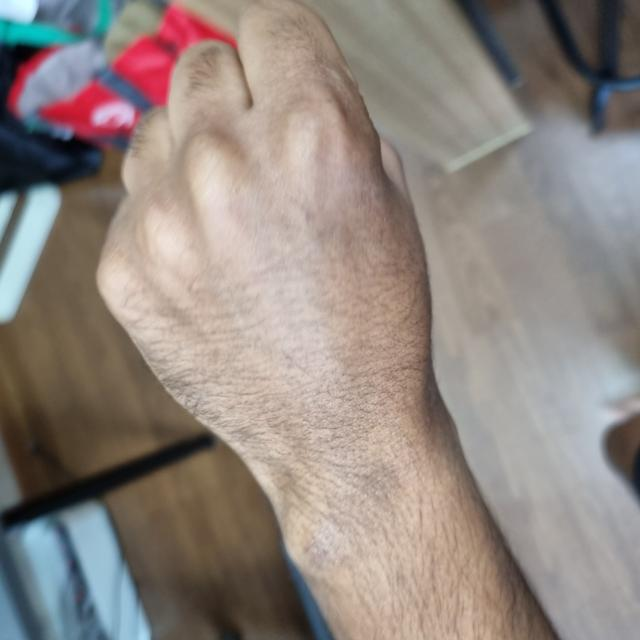Rock: (138, 101, 634, 430)
